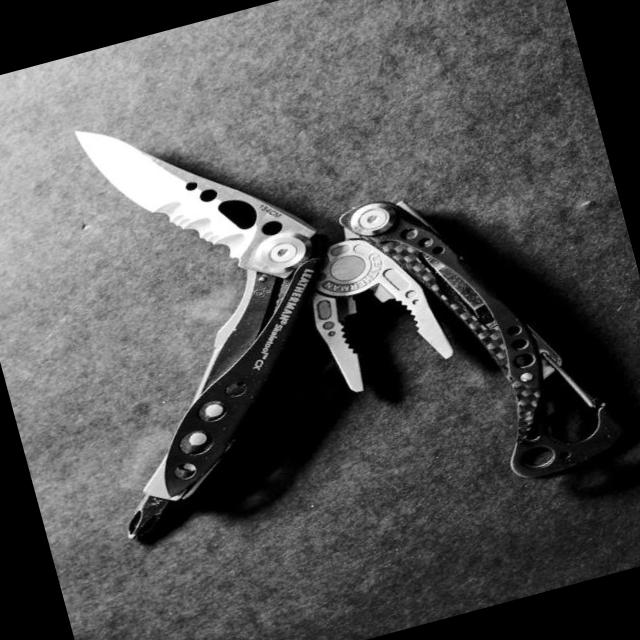Knife: (76, 131, 317, 536)
